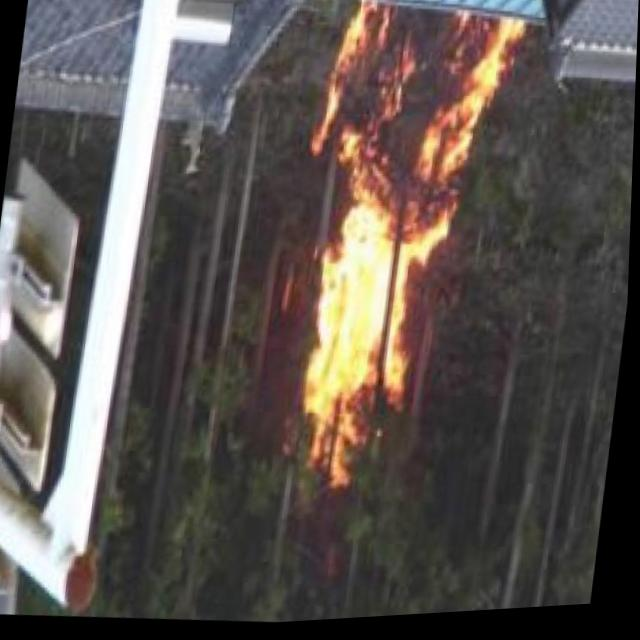Fire: (282, 0, 520, 479)
